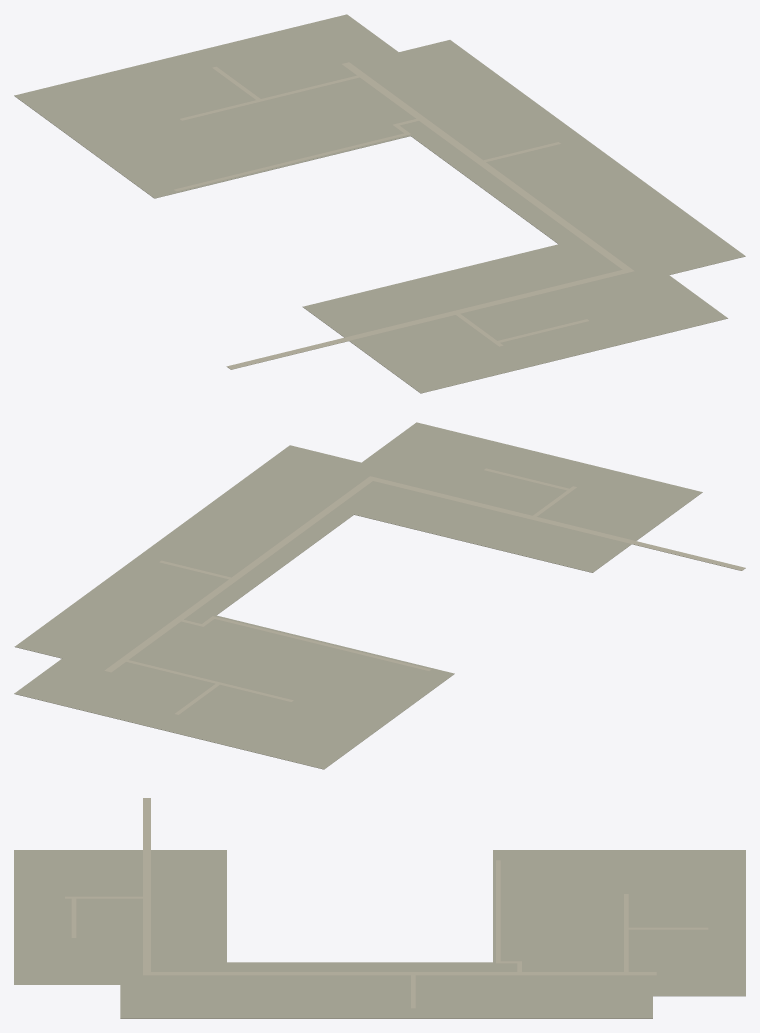
Rendered from C02-environment.glb.
3 renders of one model, top to bottom at view 1: azimuth 30°, elevation 25°; view 2: azimuth 150°, elevation 25°; view 3: azimuth 270°, elevation 25°, orthographic. The views are drawn at different scales.
Visible parts, largest first — view 1: C02_single_shared_terrain; view 2: C02_single_shared_terrain; view 3: C02_single_shared_terrain.
Part boxes in pixels (left/top/right/bottom): C02_single_shared_terrain: left=14, top=14, right=745, bottom=393; C02_single_shared_terrain: left=14, top=422, right=745, bottom=769; C02_single_shared_terrain: left=14, top=798, right=745, bottom=1018.
Bounding box in the file's own units: 392 × 0.2 × 550.
